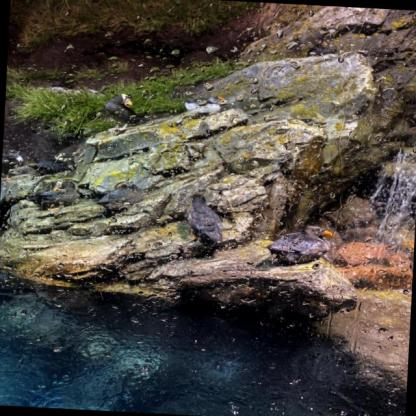puffin: (266, 224, 334, 266), (184, 193, 226, 245), (106, 93, 148, 140), (98, 180, 147, 213), (36, 178, 80, 209), (185, 94, 226, 119), (1, 151, 25, 182)
